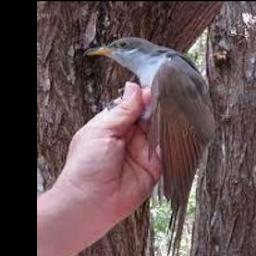Cuckoo: (85, 37, 215, 256)
